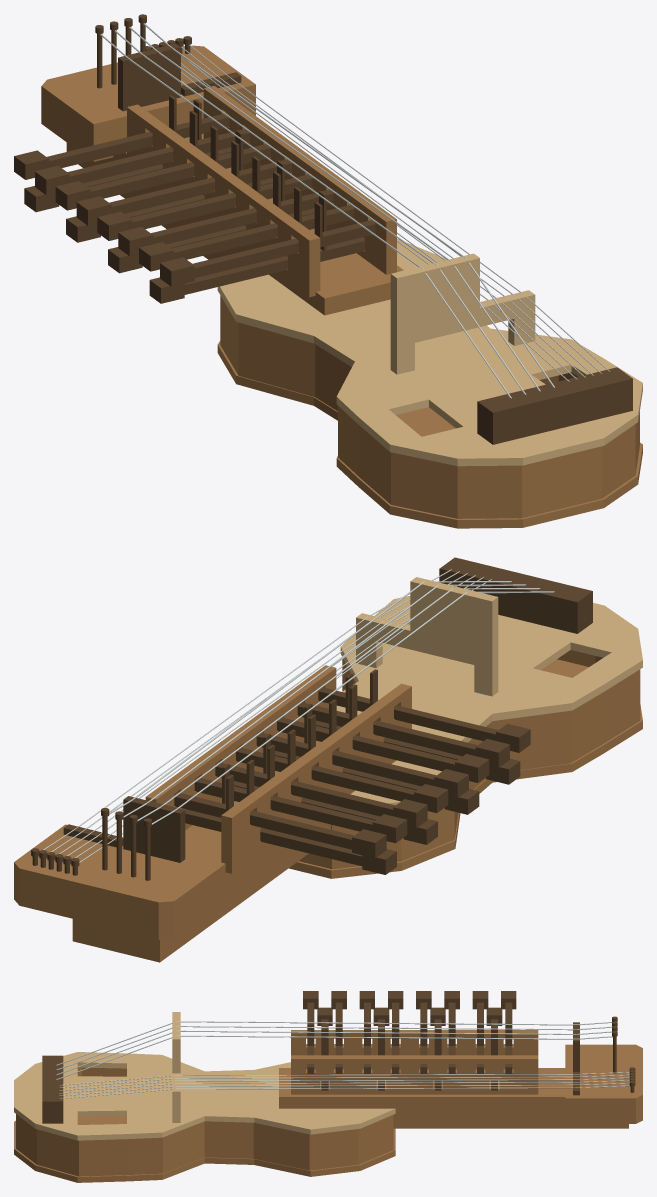
3 renders of one model, top to bottom at view 1: azimuth 30°, elevation 25°; view 2: azimuth 150°, elevation 25°; view 3: azimuth 270°, elevation 25°, orthographic. The views are drawn at different scales.
Parts seen in each view (by area): view 1: WholeWaistedBoardWithTwinBoundedSoundSlots, WholeInsetWaistedCavityRibRing, WholeSteppedTwoPlaneStringBridge, WholeWideTwoBankPegHead, WholeLeftTwoTierSlottedGuideRail, WholeWideTailStringAnchor, WholeRightTwoTierSlottedGuideRail, WholeWaistedFlatBack, WholeProjectingKeyNeck, WholeKeyStemButtonAndUprightTangent_00, WholeHighMelodyNut, WholeKeyStemButtonAndUprightTangent_05 (+16 smaller); view 2: WholeWaistedBoardWithTwinBoundedSoundSlots, WholeWideTwoBankPegHead, WholeInsetWaistedCavityRibRing, WholeSteppedTwoPlaneStringBridge, WholeLeftTwoTierSlottedGuideRail, WholeProjectingKeyNeck, WholeWideTailStringAnchor, WholeRightTwoTierSlottedGuideRail, WholeWaistedFlatBack, WholeKeyStemButtonAndUprightTangent_07, WholeKeyStemButtonAndUprightTangent_06, WholeKeyStemButtonAndUprightTangent_04 (+18 smaller); view 3: WholeWaistedBoardWithTwinBoundedSoundSlots, WholeInsetWaistedCavityRibRing, WholeProjectingKeyNeck, WholeRightTwoTierSlottedGuideRail, WholeWideTwoBankPegHead, WholeLeftTwoTierSlottedGuideRail, WholeWaistedFlatBack, WholeWideTailStringAnchor, WholeSteppedTwoPlaneStringBridge, WholeUpperMelodyString_3, WholeUpperMelodyString_0, WholeUpperMelodyString_2 (+20 smaller).
Boxes of the visible parts, box(x1,y1,x2,y2) form: WholeWaistedBoardWithTwinBoundedSoundSlots: box(217, 239, 642, 466); WholeInsetWaistedCavityRibRing: box(220, 295, 639, 518); WholeSteppedTwoPlaneStringBridge: box(390, 253, 535, 374); WholeWideTwoBankPegHead: box(41, 45, 255, 161); WholeLeftTwoTierSlottedGuideRail: box(127, 104, 320, 297); WholeWideTailStringAnchor: box(477, 367, 632, 444); WholeRightTwoTierSlottedGuideRail: box(203, 86, 396, 274); WholeWaistedFlatBack: box(217, 341, 642, 528); WholeProjectingKeyNeck: box(66, 133, 403, 315); WholeKeyStemButtonAndUprightTangent_00: box(160, 202, 375, 286); WholeHighMelodyNut: box(118, 43, 180, 111); WholeKeyStemButtonAndUprightTangent_05: box(55, 126, 270, 210); WholeWaistedBoardWithTwinBoundedSoundSlots: box(336, 596, 642, 805); WholeWideTwoBankPegHead: box(14, 824, 225, 939); WholeInsetWaistedCavityRibRing: box(299, 650, 640, 869); WholeSteppedTwoPlaneStringBridge: box(356, 577, 498, 696); WholeLeftTwoTierSlottedGuideRail: box(221, 683, 411, 873); WholeProjectingKeyNeck: box(72, 740, 396, 962); WholeWideTailStringAnchor: box(439, 557, 592, 633); WholeRightTwoTierSlottedGuideRail: box(145, 665, 336, 829); WholeWaistedFlatBack: box(289, 659, 642, 878); WholeKeyStemButtonAndUprightTangent_07: box(174, 774, 386, 858); WholeKeyStemButtonAndUprightTangent_06: box(194, 759, 407, 843); WholeKeyStemButtonAndUprightTangent_04: box(236, 729, 448, 812); WholeWaistedBoardWithTwinBoundedSoundSlots: box(14, 1052, 395, 1140); WholeInsetWaistedCavityRibRing: box(16, 1067, 393, 1176); WholeProjectingKeyNeck: box(279, 1068, 628, 1128); WholeRightTwoTierSlottedGuideRail: box(291, 1055, 538, 1094); WholeWideTwoBankPegHead: box(565, 1044, 642, 1123); WholeLeftTwoTierSlottedGuideRail: box(291, 1030, 538, 1069); WholeWaistedFlatBack: box(14, 1115, 395, 1182); WholeWideTailStringAnchor: box(42, 1055, 63, 1123); WholeSteppedTwoPlaneStringBridge: box(172, 1012, 180, 1122); WholeUpperMelodyString_3: box(56, 1035, 612, 1079); WholeUpperMelodyString_0: box(56, 1021, 611, 1065); WholeUpperMelodyString_2: box(56, 1030, 611, 1074).
Bounding box in the file's own units: 0.338 × 0.182 × 0.89.
